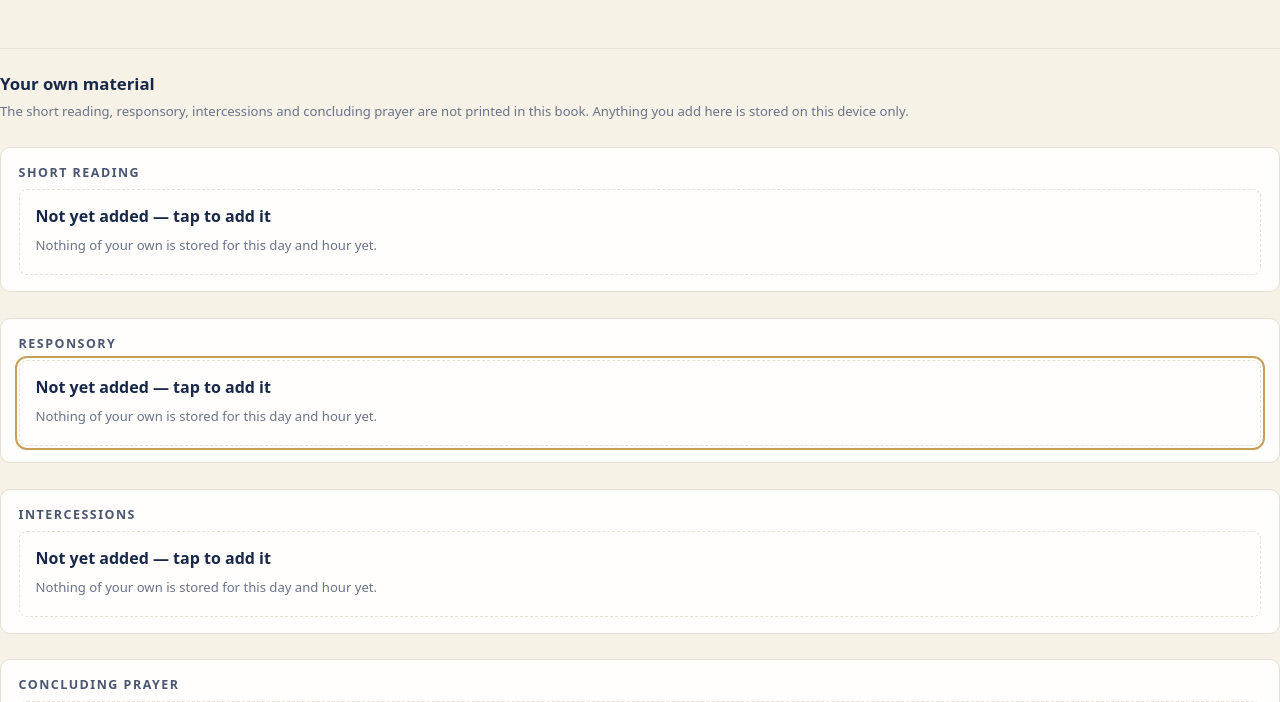
Test: 18: the keyboard gets into the sheet and back out › returns focus to the control that opened it
Click the button with aria-label "Add the responsory" at x=153, y=387, box [19,360,1261,446]
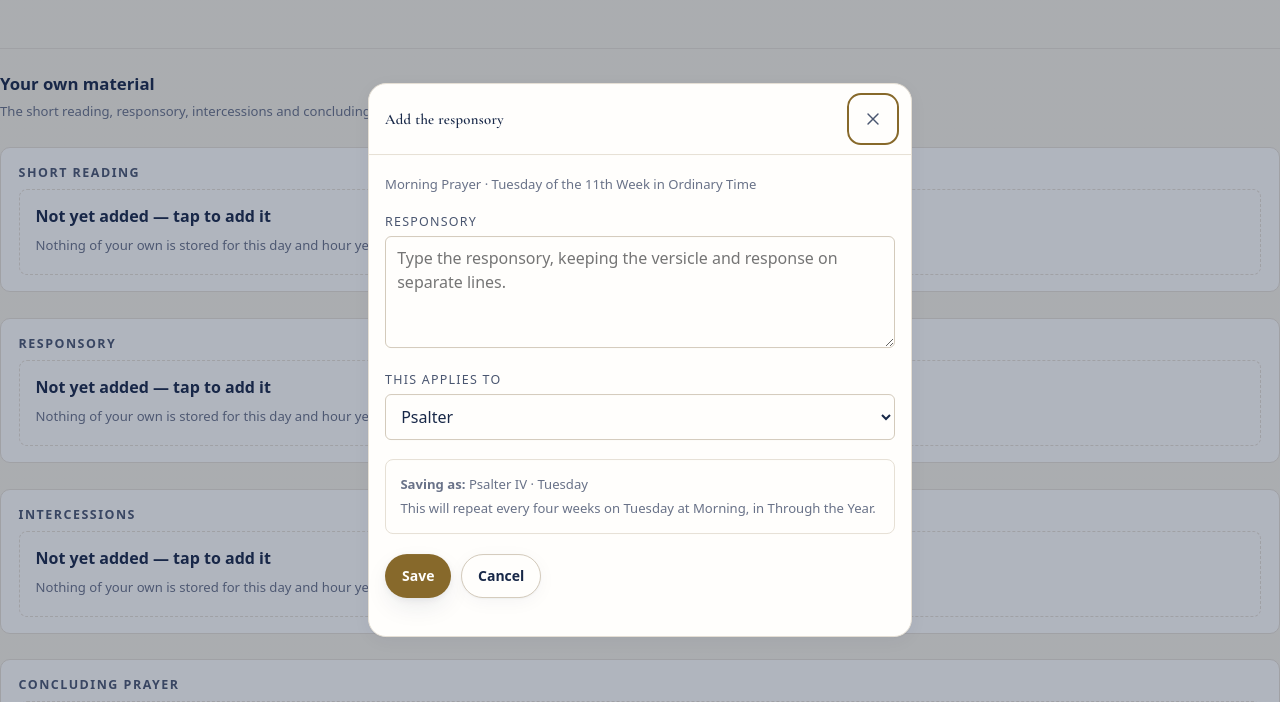
Now the dialog is shown, box [368,83,912,637]
Now the button named "Close" in the row of "Add the responsory" is shown, box [851,97,895,141]
Press Escape
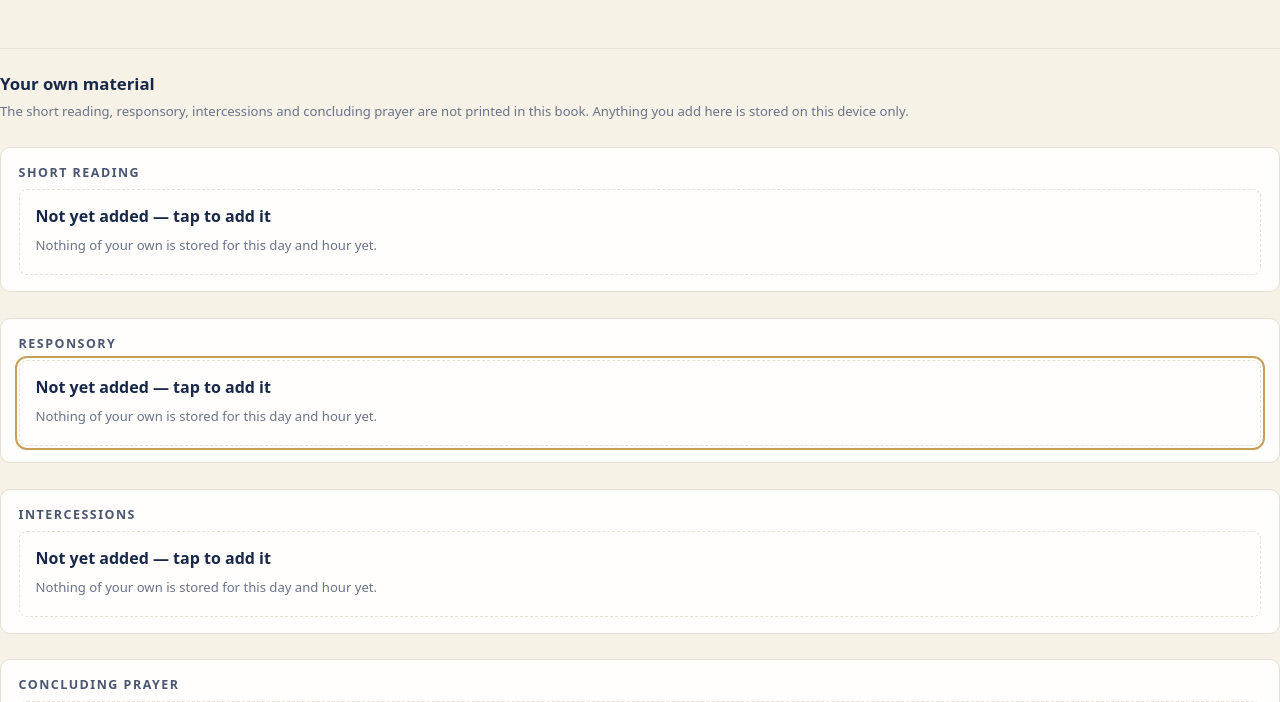
Now the dialog is gone
